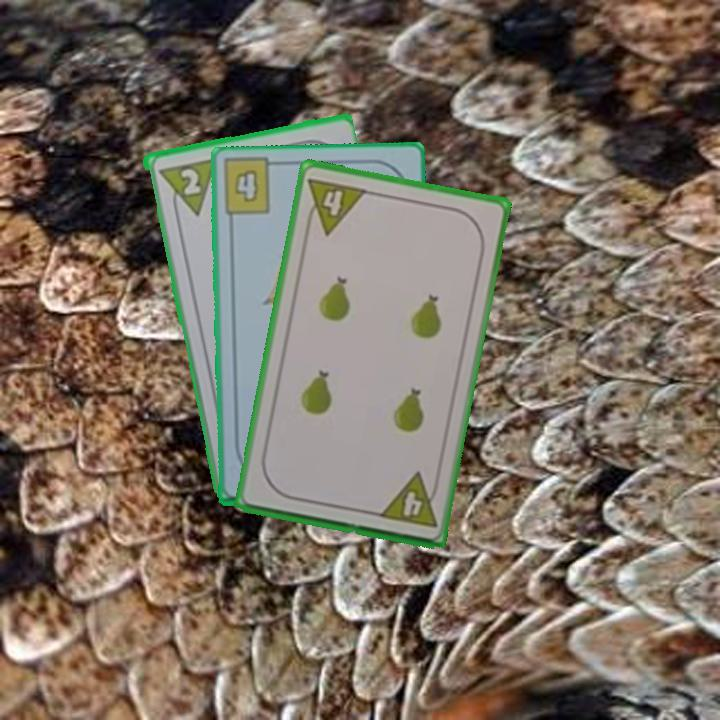2p: (176, 164, 203, 198)
4b: (230, 165, 261, 205)
4p: (301, 173, 370, 238), (375, 469, 442, 531)
